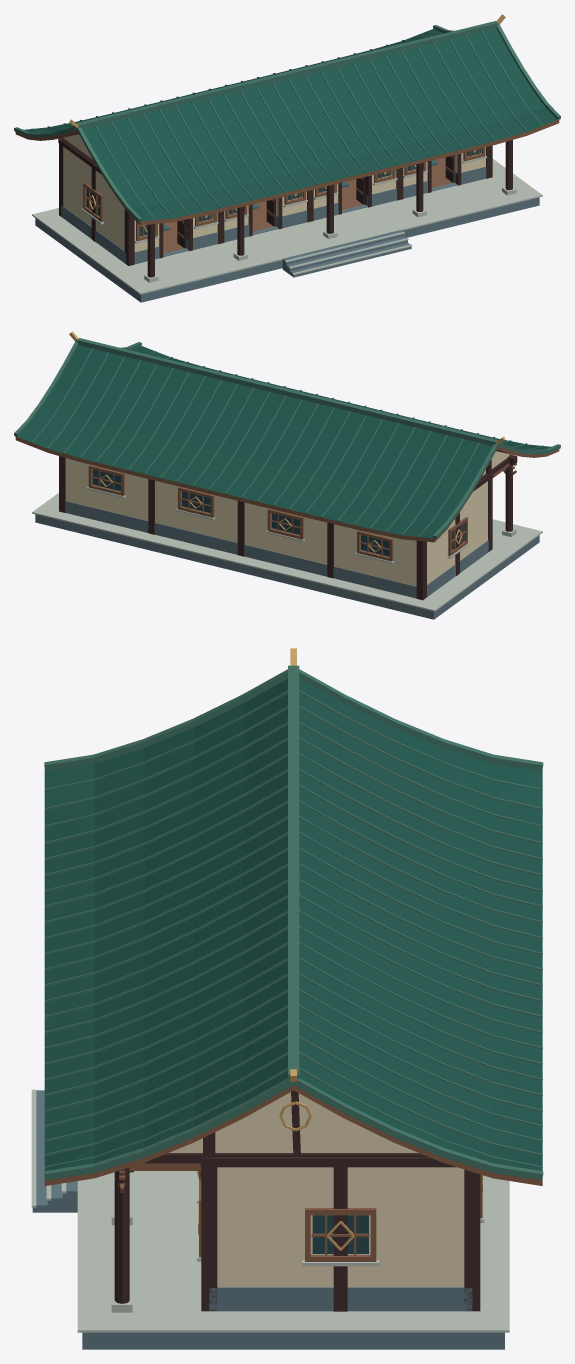
Rendered from disciple_residence.glb.
3 renders of one model, top to bottom at view 1: azimuth 30°, elevation 25°; view 2: azimuth 150°, elevation 25°; view 3: azimuth 270°, elevation 25°, orthographic. The views are drawn at different scales.
Visible parts, largest first — view 1: DisciplesResidence / Jade, DisciplesResidence / Coping, DisciplesResidence / TileLight, DisciplesResidence / Stone, DisciplesResidence / Timber, DisciplesResidence / Plaster, DisciplesResidence / Cedar, DisciplesResidence / Floor, DisciplesResidence / Window; view 2: DisciplesResidence / Jade, DisciplesResidence / Plaster, DisciplesResidence / TileLight, DisciplesResidence / Stone, DisciplesResidence / Coping, DisciplesResidence / Cedar, DisciplesResidence / Timber, DisciplesResidence / Window, DisciplesResidence / Bronze; view 3: DisciplesResidence / Jade, DisciplesResidence / TileLight, DisciplesResidence / Plaster, DisciplesResidence / Coping, DisciplesResidence / Stone, DisciplesResidence / Timber, DisciplesResidence / Cedar, DisciplesResidence / Window.
Part boxes in pixels (left/top/right/bottom): DisciplesResidence / Jade: left=24, top=28, right=558, bottom=221; DisciplesResidence / Coping: left=32, top=155, right=542, bottom=294; DisciplesResidence / TileLight: left=14, top=21, right=560, bottom=222; DisciplesResidence / Stone: left=35, top=166, right=539, bottom=302; DisciplesResidence / Timber: left=58, top=132, right=512, bottom=277; DisciplesResidence / Plaster: left=63, top=134, right=485, bottom=252; DisciplesResidence / Cedar: left=15, top=119, right=559, bottom=241; DisciplesResidence / Floor: left=163, top=157, right=452, bottom=253; DisciplesResidence / Window: left=86, top=148, right=481, bottom=236; DisciplesResidence / Jade: left=16, top=345, right=550, bottom=538; DisciplesResidence / Plaster: left=65, top=451, right=509, bottom=586; DisciplesResidence / TileLight: left=14, top=338, right=560, bottom=539; DisciplesResidence / Stone: left=35, top=501, right=539, bottom=619; DisciplesResidence / Coping: left=32, top=486, right=542, bottom=611; DisciplesResidence / Cedar: left=15, top=436, right=559, bottom=561; DisciplesResidence / Timber: left=59, top=449, right=517, bottom=600; DisciplesResidence / Window: left=92, top=469, right=464, bottom=556; DisciplesResidence / Bronze: left=69, top=331, right=505, bottom=552; DisciplesResidence / Jade: left=44, top=678, right=542, bottom=1178; DisciplesResidence / TileLight: left=44, top=665, right=543, bottom=1180; DisciplesResidence / Plaster: left=169, top=1092, right=464, bottom=1287; DisciplesResidence / Coping: left=31, top=1089, right=509, bottom=1332; DisciplesResidence / Stone: left=32, top=1090, right=504, bottom=1349; DisciplesResidence / Timber: left=114, top=1090, right=480, bottom=1311; DisciplesResidence / Cedar: left=44, top=1085, right=542, bottom=1261; DisciplesResidence / Window: left=312, top=1215, right=368, bottom=1253.
Size of the model in its own units: 21.4 by 6.96 by 10.89.
